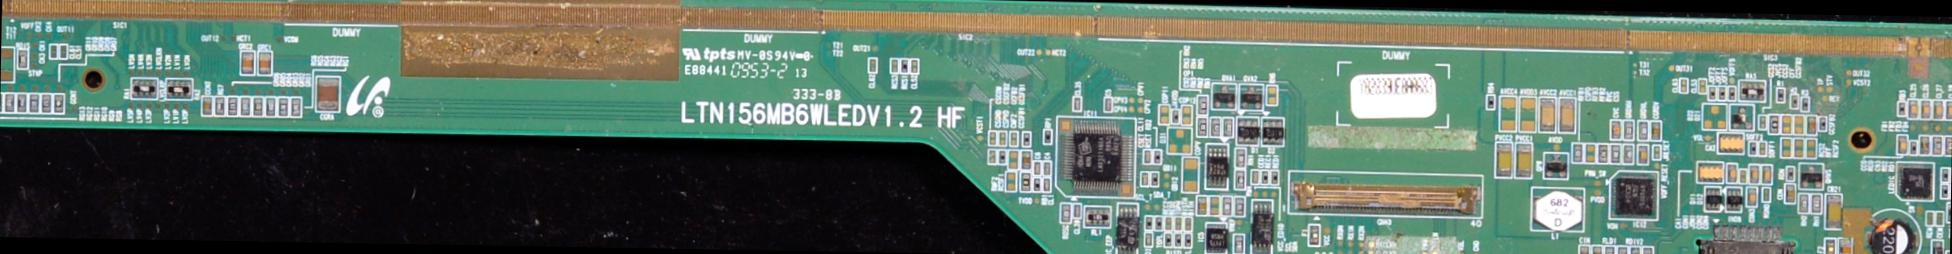Capacitor Jumper: (315, 77, 340, 112), (1181, 157, 1199, 192), (1825, 195, 1842, 229), (259, 51, 271, 73), (242, 52, 254, 75), (1896, 134, 1908, 156), (1921, 97, 1931, 120), (1180, 105, 1191, 125), (1837, 238, 1852, 253), (1907, 100, 1918, 118), (227, 97, 238, 116), (1932, 100, 1942, 120), (251, 97, 263, 115), (1266, 86, 1276, 105), (1611, 121, 1621, 139), (1021, 151, 1031, 169), (265, 96, 274, 117), (1160, 105, 1169, 125), (1651, 122, 1661, 139), (278, 98, 288, 116), (202, 97, 212, 115), (291, 98, 301, 116), (1921, 134, 1930, 154), (1007, 149, 1017, 167), (242, 96, 250, 115), (1806, 116, 1815, 133), (1638, 144, 1647, 162), (1728, 164, 1737, 182), (1750, 166, 1759, 183), (1786, 184, 1795, 202), (1748, 187, 1757, 204), (1586, 143, 1593, 162), (1763, 166, 1770, 183), (1007, 172, 1015, 189), (1946, 100, 1952, 120), (1198, 197, 1205, 213), (1073, 96, 1081, 110), (1023, 133, 1031, 147), (998, 149, 1006, 163), (988, 151, 996, 164), (1043, 178, 1051, 192), (1104, 97, 1110, 112), (998, 132, 1006, 144), (988, 132, 996, 144), (1144, 149, 1152, 162), (1043, 161, 1049, 176), (1251, 171, 1259, 183), (1140, 173, 1148, 186), (869, 59, 876, 71), (911, 59, 917, 73), (1011, 132, 1017, 146), (1074, 204, 1081, 218), (1579, 245, 1588, 253), (1035, 162, 1039, 174), (1145, 233, 1150, 245), (1592, 247, 1602, 253), (1947, 203, 1950, 224)
IC: (1615, 178, 1653, 215), (1252, 214, 1274, 244), (1115, 217, 1137, 247), (1206, 227, 1226, 249), (1206, 157, 1227, 176)
Resistor Jumper: (1195, 117, 1206, 137), (1622, 144, 1633, 164), (54, 93, 63, 115), (1232, 235, 1244, 254), (214, 96, 224, 116), (17, 50, 27, 70), (1198, 96, 1208, 115), (29, 93, 39, 112), (1799, 193, 1809, 212), (1061, 204, 1071, 223), (1810, 194, 1821, 210), (1210, 118, 1220, 136), (1610, 144, 1620, 162), (1235, 171, 1245, 188), (5, 93, 14, 112), (41, 95, 50, 113), (1224, 118, 1232, 137), (1574, 143, 1582, 162), (1598, 144, 1607, 163), (1236, 148, 1245, 167), (17, 95, 26, 112), (1235, 198, 1244, 215), (1933, 136, 1941, 154), (1910, 142, 1918, 156), (1945, 137, 1951, 156), (900, 59, 908, 73), (1942, 168, 1950, 182), (890, 59, 898, 72), (1271, 171, 1277, 183), (1261, 171, 1267, 183), (1942, 186, 1948, 197), (0, 93, 2, 112)
Transistor: (1800, 163, 1824, 189), (1211, 85, 1235, 108), (1240, 85, 1261, 110)
